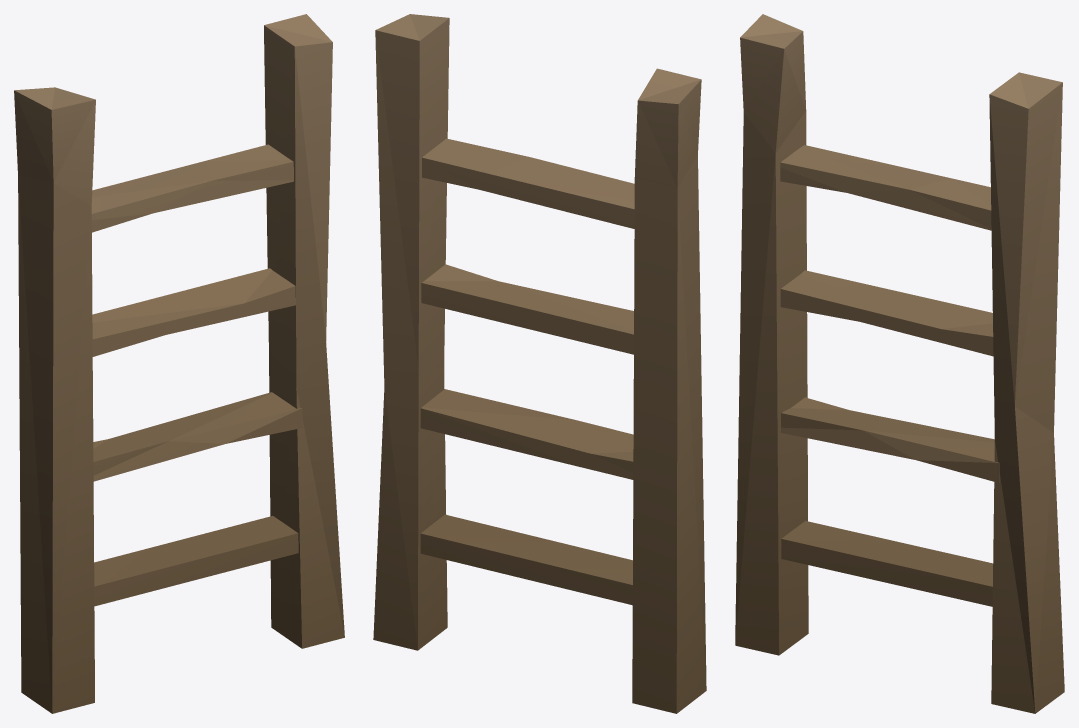
File: Ladder.fbx
The picture shows the model from 3 angles, left to right: view 1: azimuth 30°, elevation 25°; view 2: azimuth 150°, elevation 25°; view 3: azimuth 330°, elevation 25°; orthographic projection.
Parts seen in each view (by area): view 1: Ladder; view 2: Ladder; view 3: Ladder.
Boxes of the visible parts, <box> form: Ladder: <box>14,14,344,713</box>; Ladder: <box>373,14,706,713</box>; Ladder: <box>735,14,1064,713</box>.
Bounding box in the file's own units: 0.9413 × 1.81 × 0.1916.
1 material, 1 textured.
